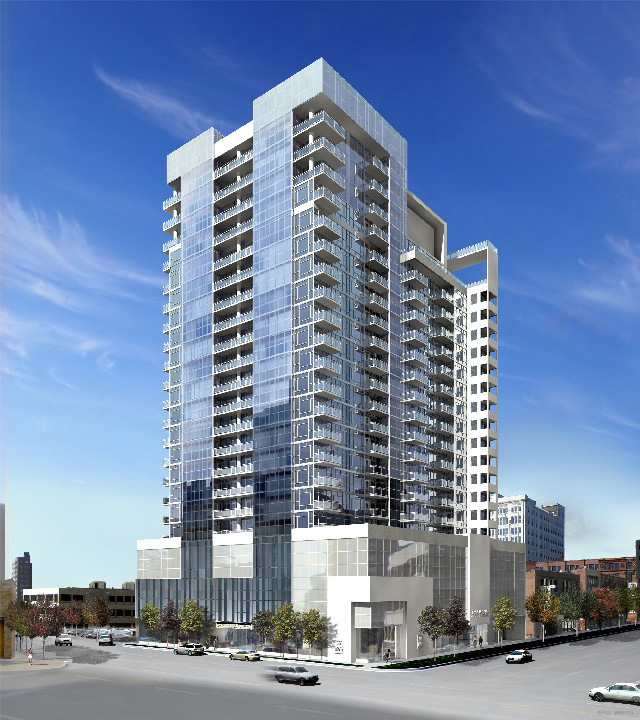Sky Building: (156, 58, 509, 635)
